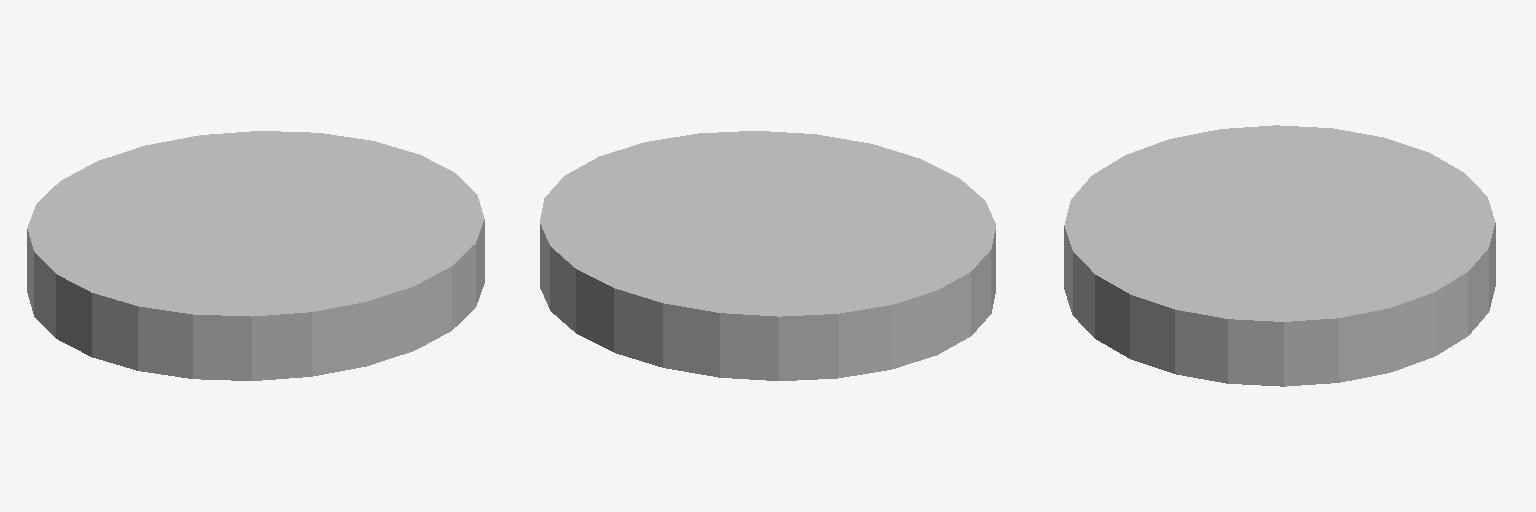
The model's file is original-38.obj.
3 renders of one model, left to right at view 1: azimuth 30°, elevation 25°; view 2: azimuth 150°, elevation 25°; view 3: azimuth 270°, elevation 25°, orthographic.
Visible parts, largest first — view 1: Group21/mesh16/mesh16-geometry#mesh16-geometry; view 2: Group21/mesh16/mesh16-geometry#mesh16-geometry; view 3: Group21/mesh16/mesh16-geometry#mesh16-geometry.
Boxes of the visible parts, box(x1,y1,x2,y2) form: Group21/mesh16/mesh16-geometry#mesh16-geometry: box(27, 131, 484, 380); Group21/mesh16/mesh16-geometry#mesh16-geometry: box(540, 131, 995, 380); Group21/mesh16/mesh16-geometry#mesh16-geometry: box(1064, 125, 1495, 386).
Size of the model in its own units: 0.0561 by 0.0086 by 0.052.